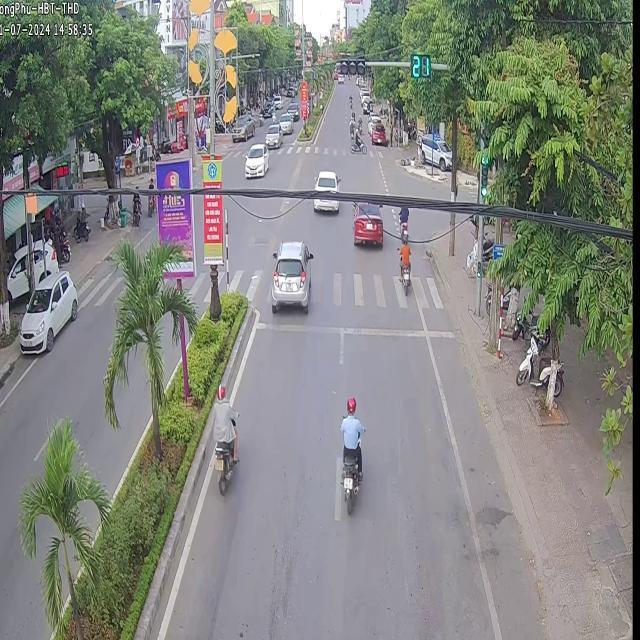car: (18, 269, 77, 352), (269, 238, 312, 311), (350, 200, 382, 245), (313, 169, 338, 189), (312, 198, 337, 210)
green_light: (409, 53, 431, 81), (478, 150, 488, 202)
motobike: (212, 382, 237, 491), (339, 396, 362, 510), (397, 229, 409, 290)
stop_line: (255, 318, 423, 344)
